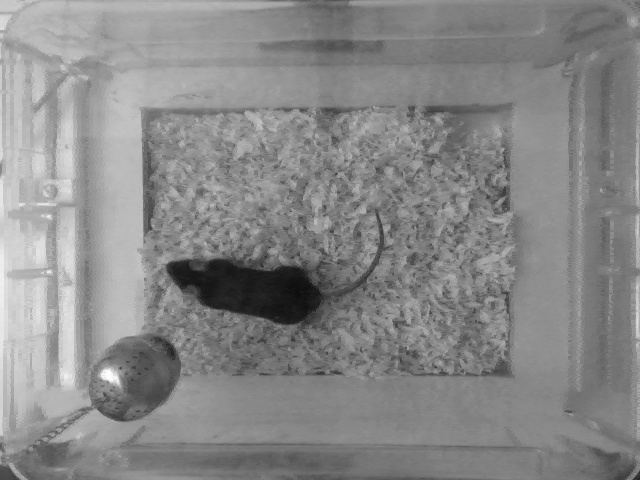mice: (166, 208, 384, 327)
